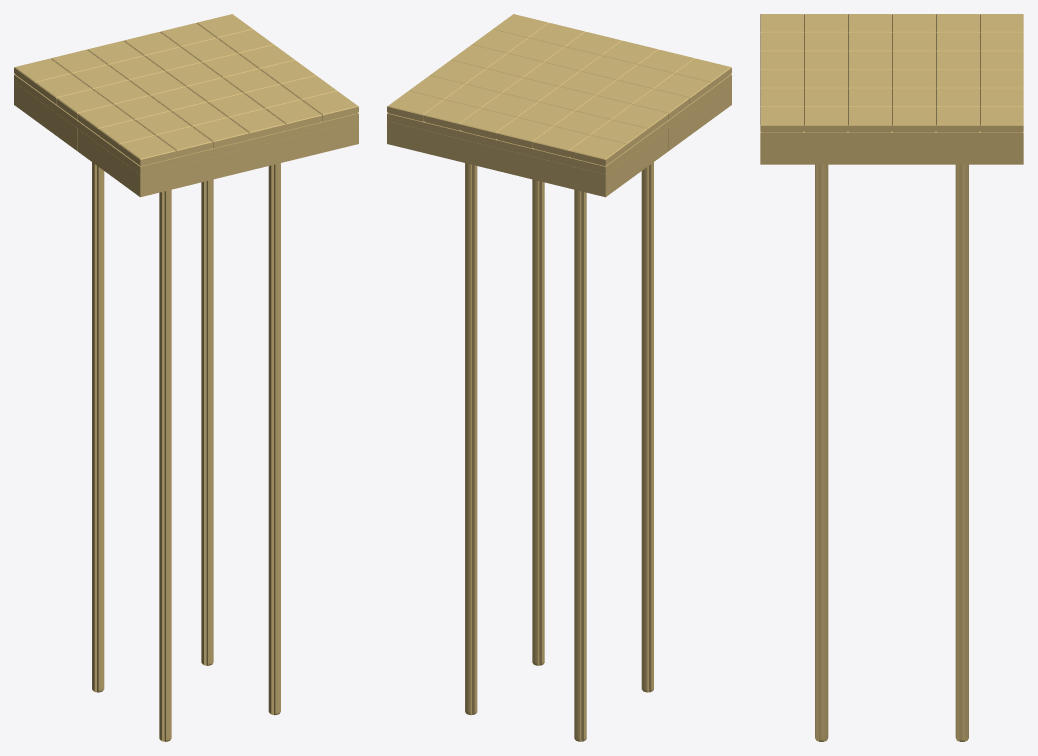
The model's file is movingPlatform.fbx.
The picture shows the model from 3 angles, left to right: view 1: azimuth 30°, elevation 25°; view 2: azimuth 150°, elevation 25°; view 3: azimuth 270°, elevation 25°; orthographic projection. The views are drawn at different scales.
Visible parts, largest first — view 1: Rods, Base; view 2: Rods, Base; view 3: Rods, Base.
Boxes of the visible parts, left/top/right/bottom form: Rods: left=72, top=38, right=300, bottom=741; Base: left=14, top=14, right=358, bottom=197; Rods: left=445, top=38, right=673, bottom=741; Base: left=387, top=14, right=731, bottom=197; Rods: left=804, top=32, right=979, bottom=741; Base: left=760, top=14, right=1023, bottom=164.
Bounding box in the file's own units: 9592 × 25808 × 9592.
